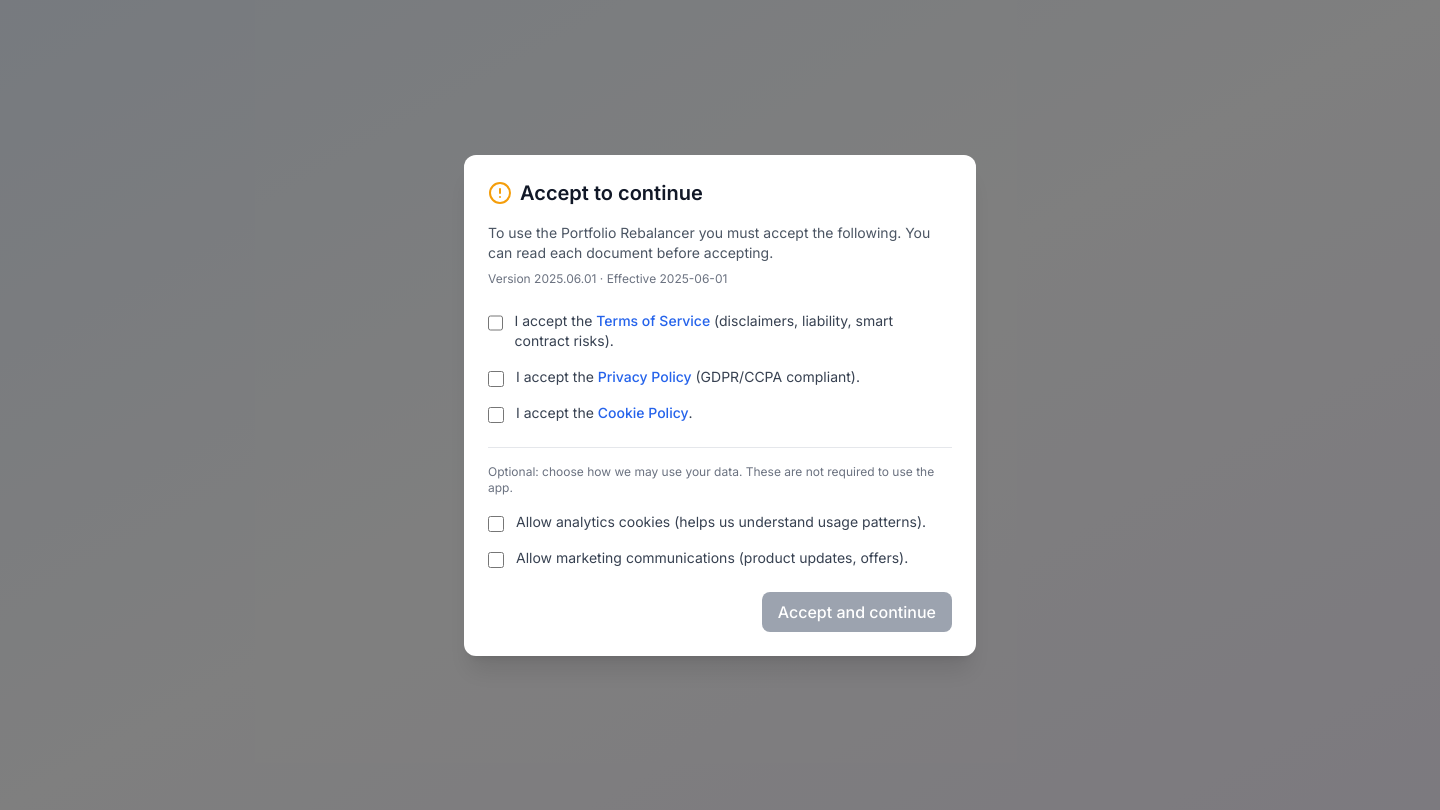
Test: ConsentGate › renders dashboard immediately after consent is granted
Click the 1st checkbox.
click(495, 322)  # box top-left (488, 314), bottom-right (502, 330)
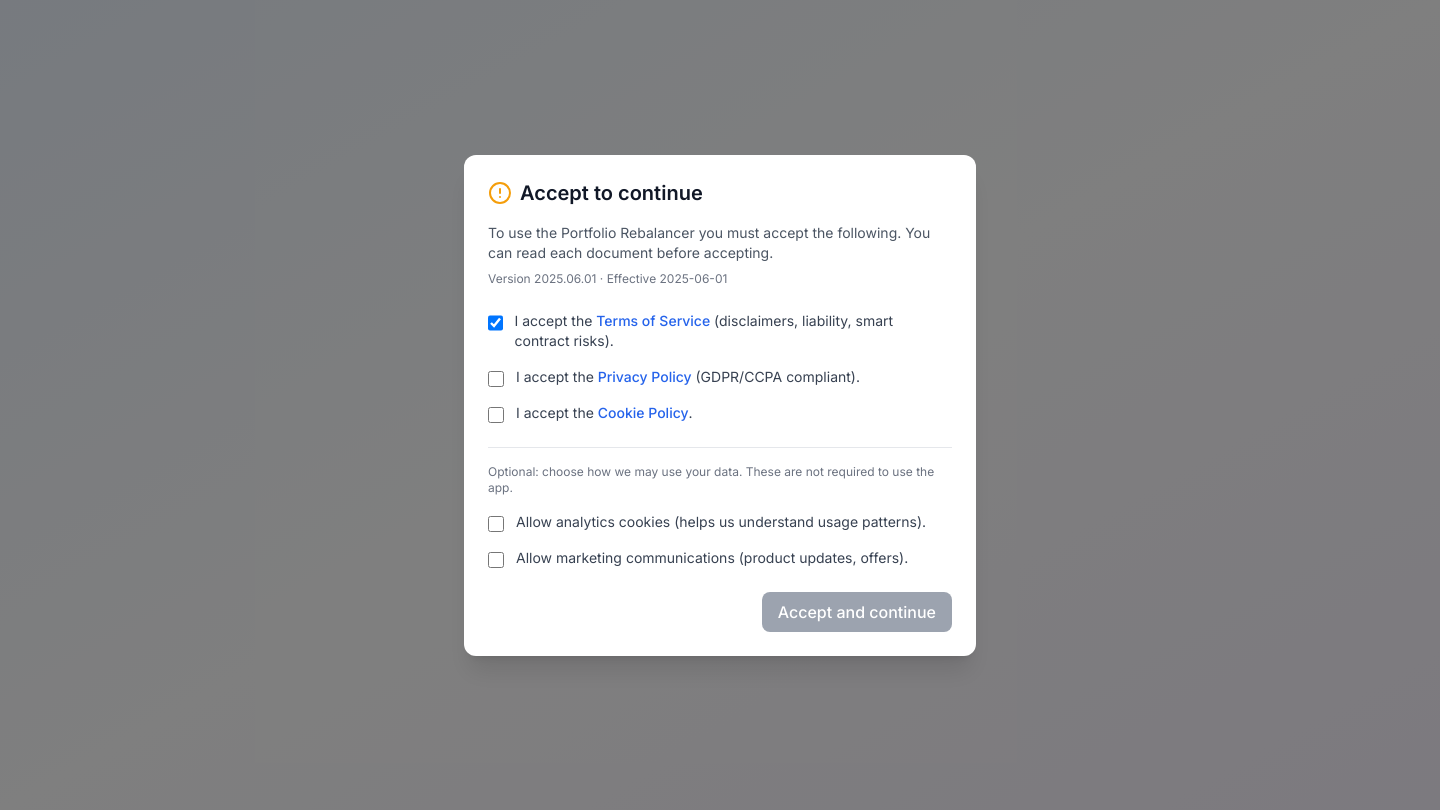
Click the checkbox labelled "I accept the Privacy Policy (GDPR/CCPA compliant).".
click(496, 378)  # box top-left (488, 370), bottom-right (504, 386)
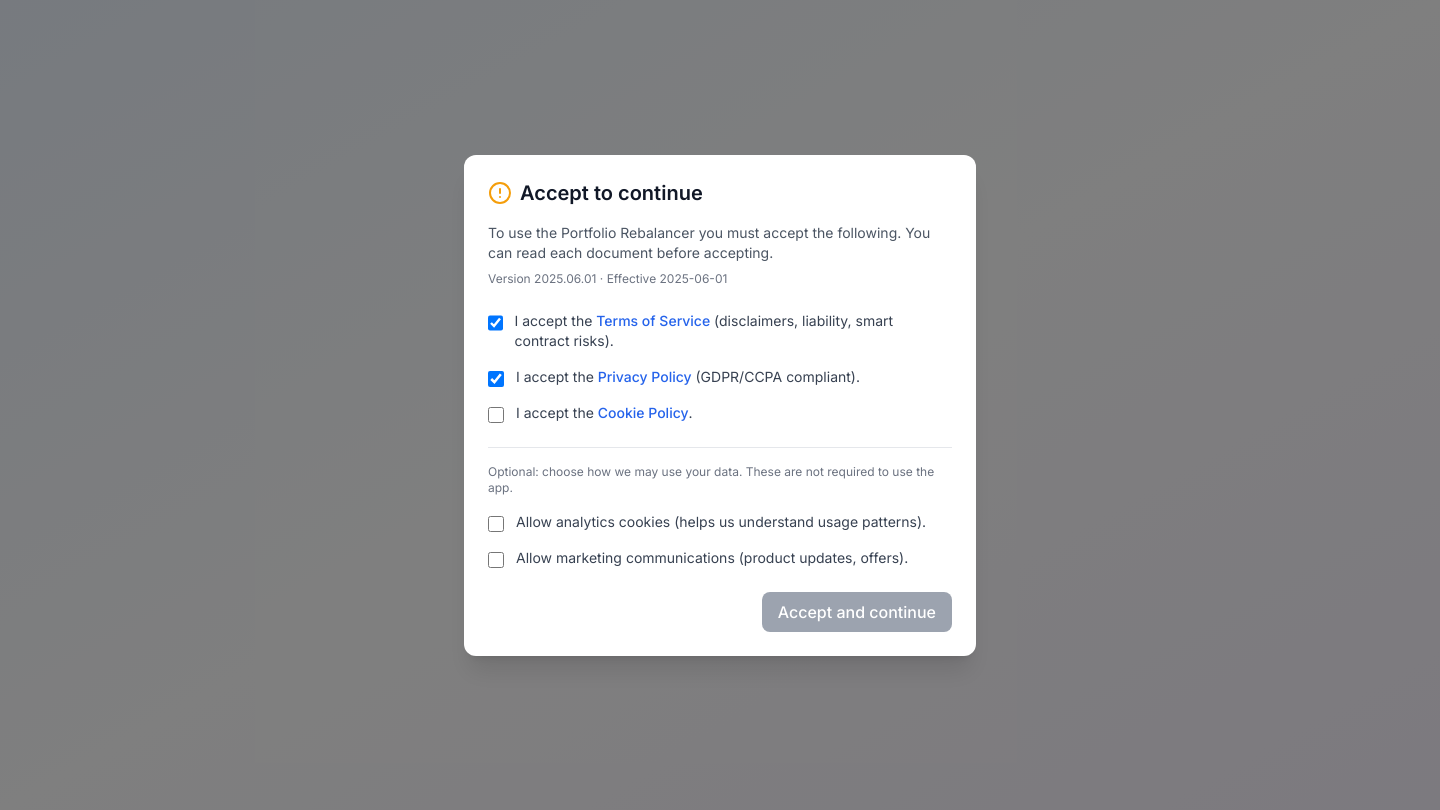
Click the checkbox labelled "I accept the Cookie Policy .".
click(496, 414)  # box top-left (488, 406), bottom-right (504, 422)
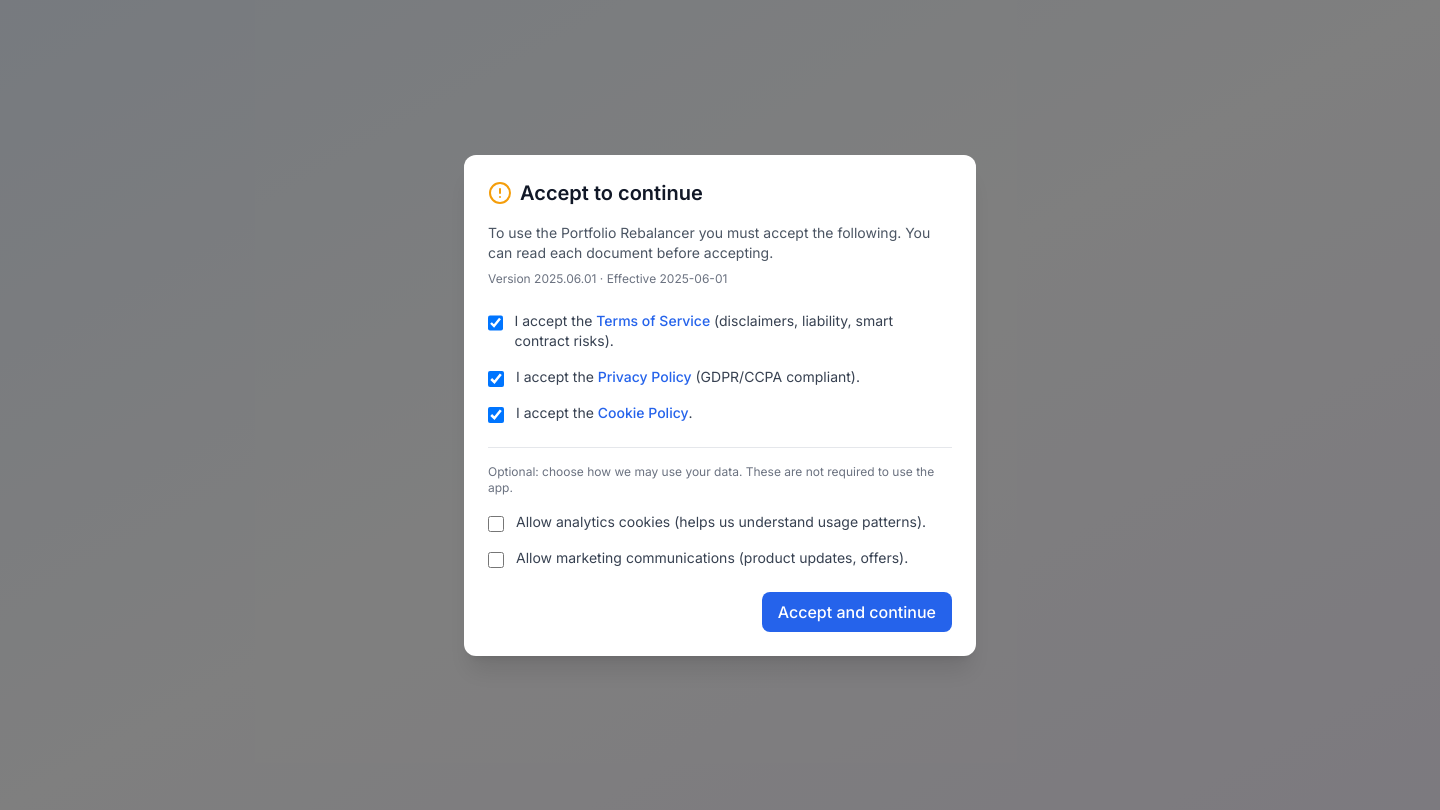
Click the button "Accept and continue".
click(857, 612)  # box top-left (762, 592), bottom-right (952, 632)
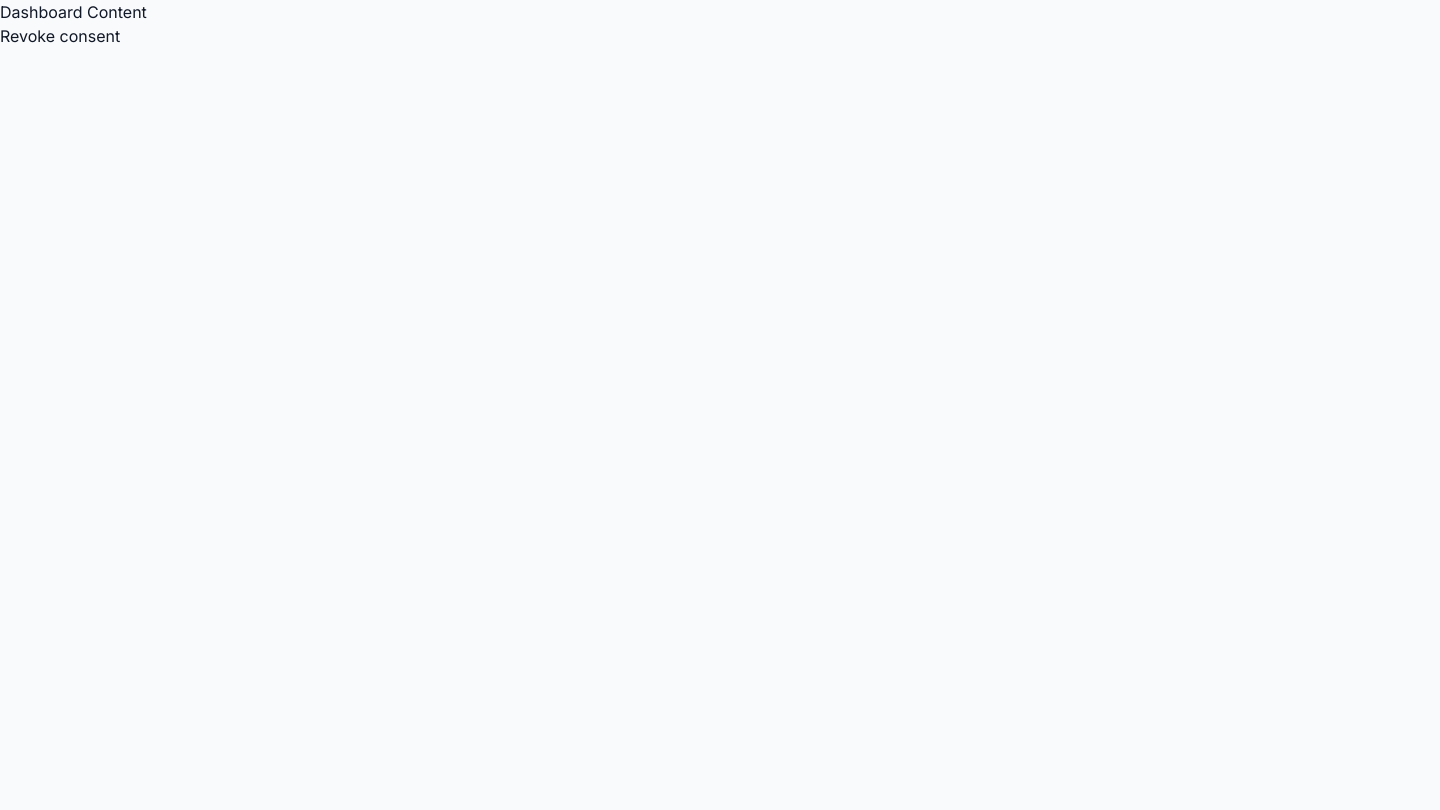
Expected: the text "Dashboard Content" is shown, top-left (0, 2), bottom-right (147, 22)
